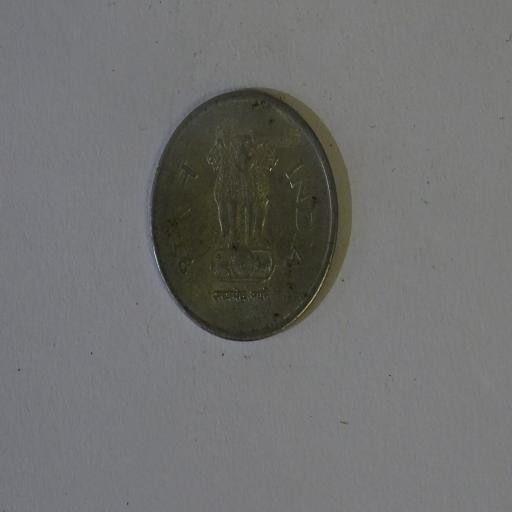rupee1: (146, 90, 344, 343)
